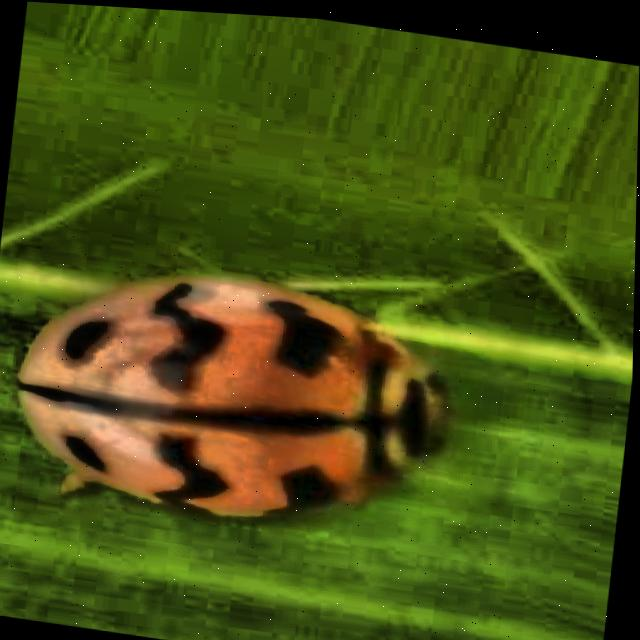Asian-Lady-beetle: (13, 238, 478, 570)
